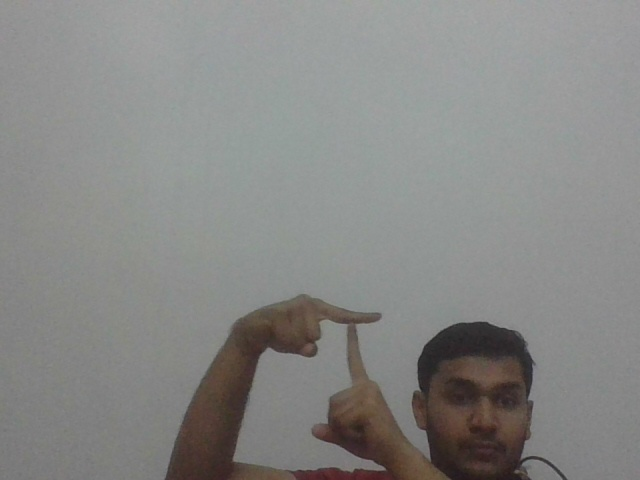T: (325, 298, 384, 382)
